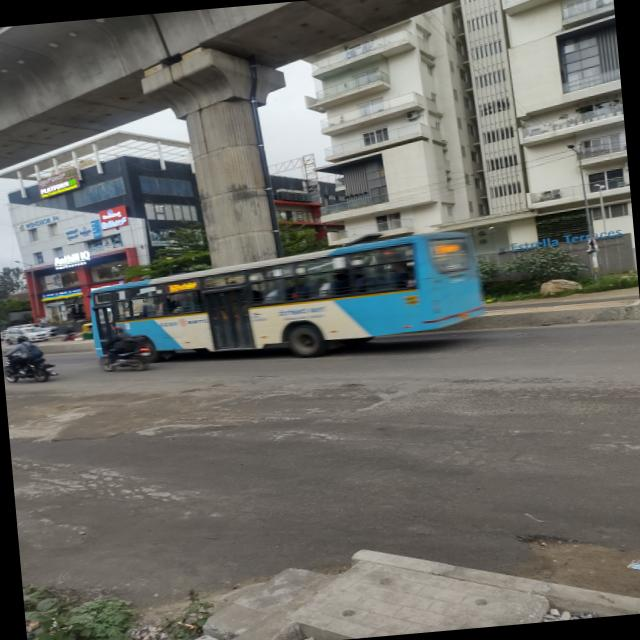bus: (68, 224, 492, 374)
display: (164, 278, 200, 294), (434, 242, 464, 254)
dnumber: (168, 282, 180, 292)
